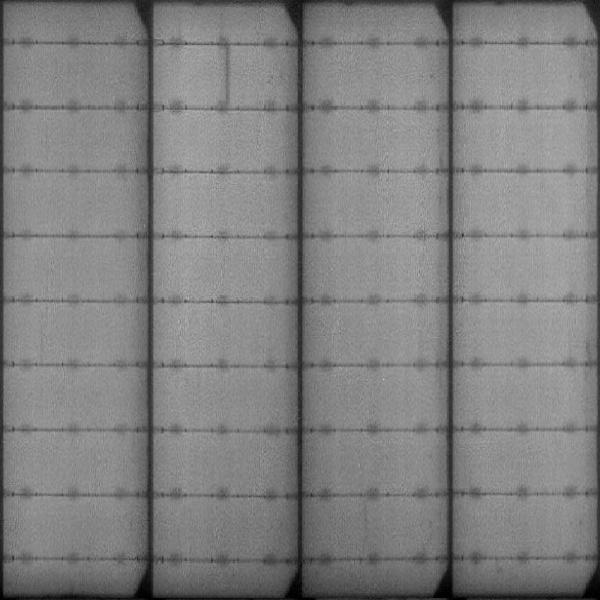scratch: (219, 44, 235, 112)
